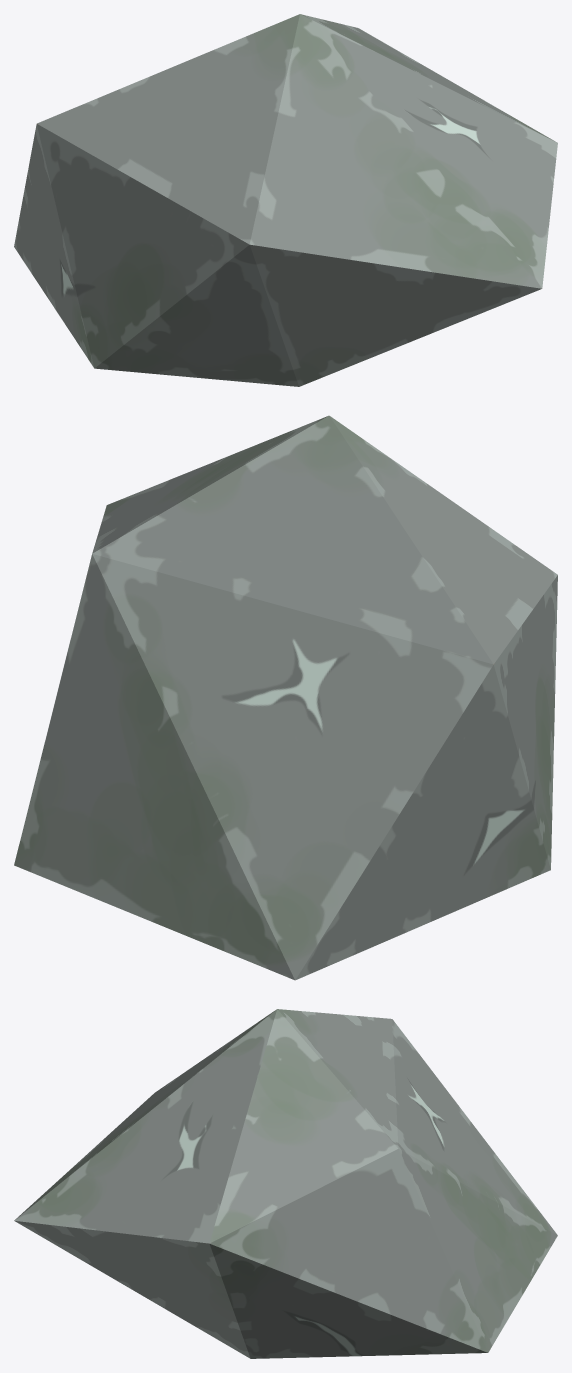
The model's file is Cailloux 1.fbx.
The picture shows the model from 3 angles, top to bottom: view 1: azimuth 30°, elevation 25°; view 2: azimuth 150°, elevation 25°; view 3: azimuth 270°, elevation 25°; orthographic projection. The views are drawn at different scales.
Visible parts, largest first — view 1: GeoSphere001; view 2: GeoSphere001; view 3: GeoSphere001.
Part boxes in pixels (x1=…): GeoSphere001: x1=14, y1=14, x2=557, y2=386; GeoSphere001: x1=14, y1=415, x2=557, y2=980; GeoSphere001: x1=14, y1=1009, x2=557, y2=1358.
Size of the model in its own units: 1.02 by 1.29 by 0.7703.
